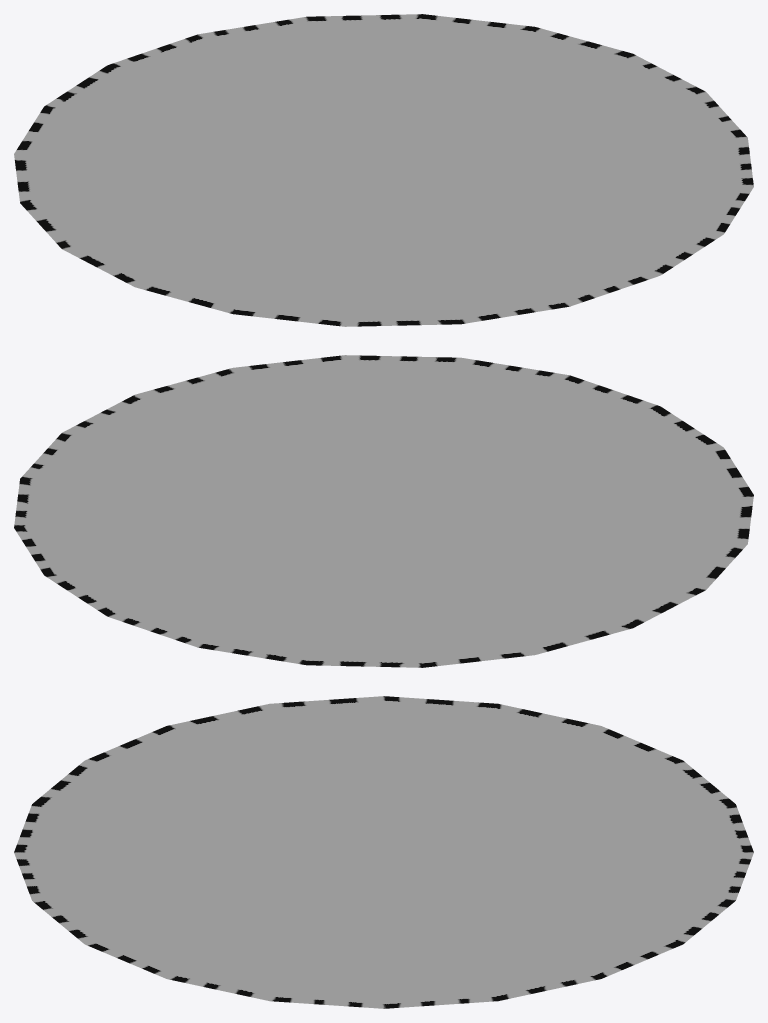
File: Oden_DotLine_Circle.gltf
3 renders of one model, top to bottom at view 1: azimuth 30°, elevation 25°; view 2: azimuth 150°, elevation 25°; view 3: azimuth 270°, elevation 25°, orthographic.
Parts seen in each view (by area): view 1: Oden_DotLine_Circle; view 2: Oden_DotLine_Circle; view 3: Oden_DotLine_Circle.
Boxes of the visible parts, box(x1,y1,x2,y2) form: Oden_DotLine_Circle: box(14, 14, 753, 326); Oden_DotLine_Circle: box(14, 355, 753, 667); Oden_DotLine_Circle: box(14, 696, 753, 1008).
Size of the model in its own units: 2 by 2.68e-07 by 2.
Materials: 1 (1 with a texture image).
